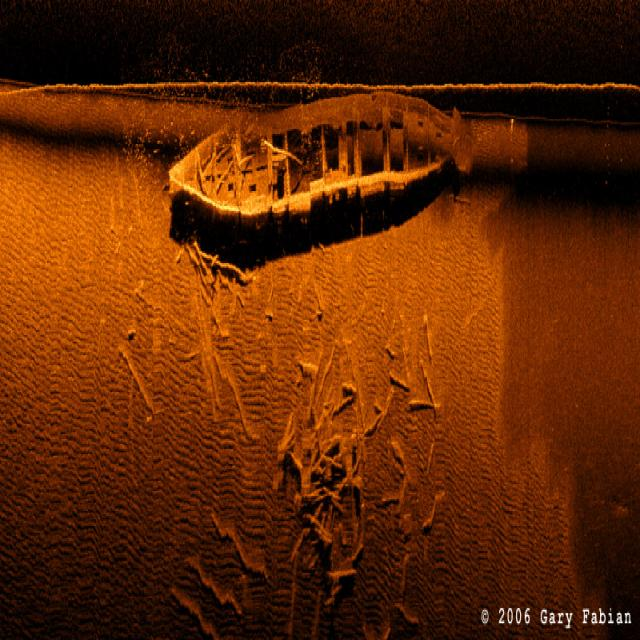ship: (166, 90, 534, 243)
